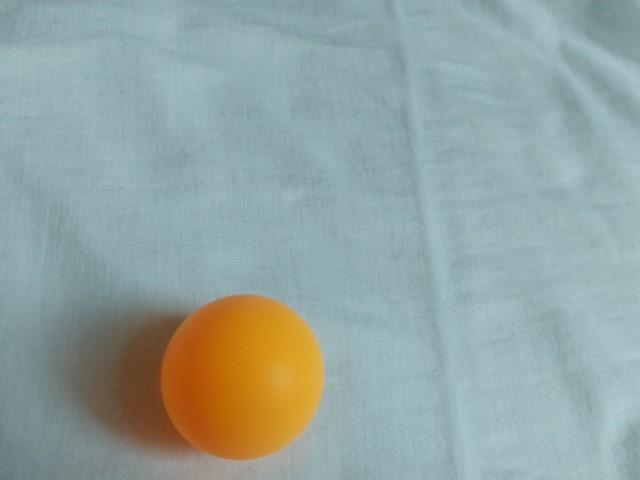oball: (152, 287, 332, 465)
